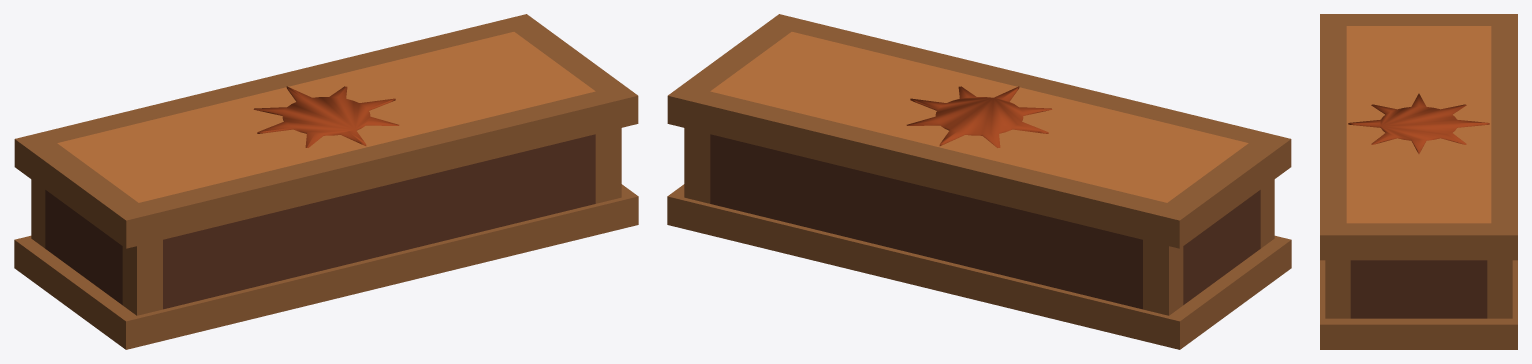
File: trunks.fbx
The picture shows the model from 3 angles, left to right: view 1: azimuth 30°, elevation 25°; view 2: azimuth 150°, elevation 25°; view 3: azimuth 270°, elevation 25°; orthographic projection. The views are drawn at different scales.
Visible parts, largest first — view 1: Chest; view 2: Chest; view 3: Chest.
Part boxes in pixels (x1,y1,x2,y2): Chest: (14, 14, 638, 349); Chest: (667, 14, 1291, 349); Chest: (1320, 14, 1517, 349).
Size of the model in its own units: 530 by 130 by 200.
